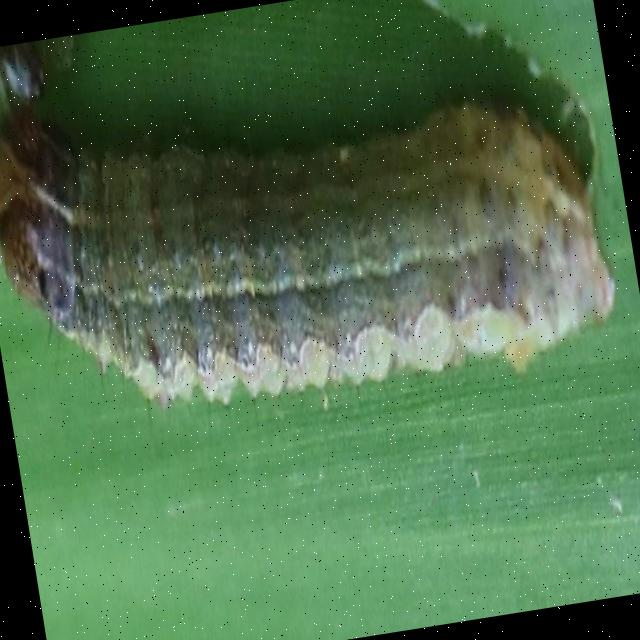worm: (1, 3, 631, 453)
